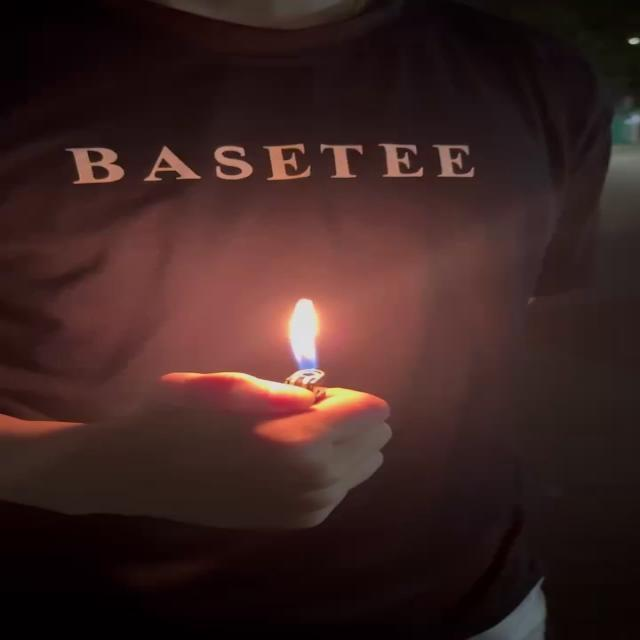Fire: (285, 297, 339, 377)
